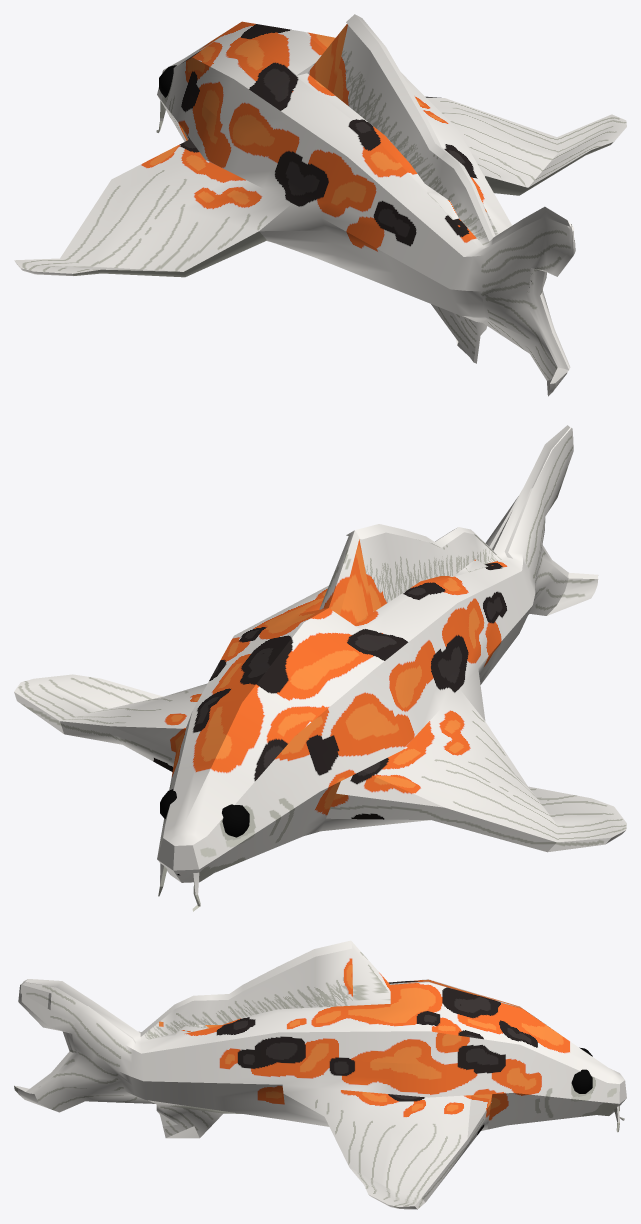
The model's file is koi.fbx.
3 renders of one model, top to bottom at view 1: azimuth 30°, elevation 25°; view 2: azimuth 150°, elevation 25°; view 3: azimuth 270°, elevation 25°, orthographic. The views are drawn at different scales.
Parts seen in each view (by area): view 1: Sphere; view 2: Sphere, Sphere_3; view 3: Sphere, Sphere_3.
Part boxes in pixels (x1,y1,x2,y2): Sphere: (14,14,626,396); Sphere: (14,425,626,911); Sphere_3: (160,789,249,837); Sphere: (14,940,626,1209); Sphere_3: (571,1047,592,1093).
Size of the model in its own units: 552 by 228 by 637.
2 materials, 1 textured.
